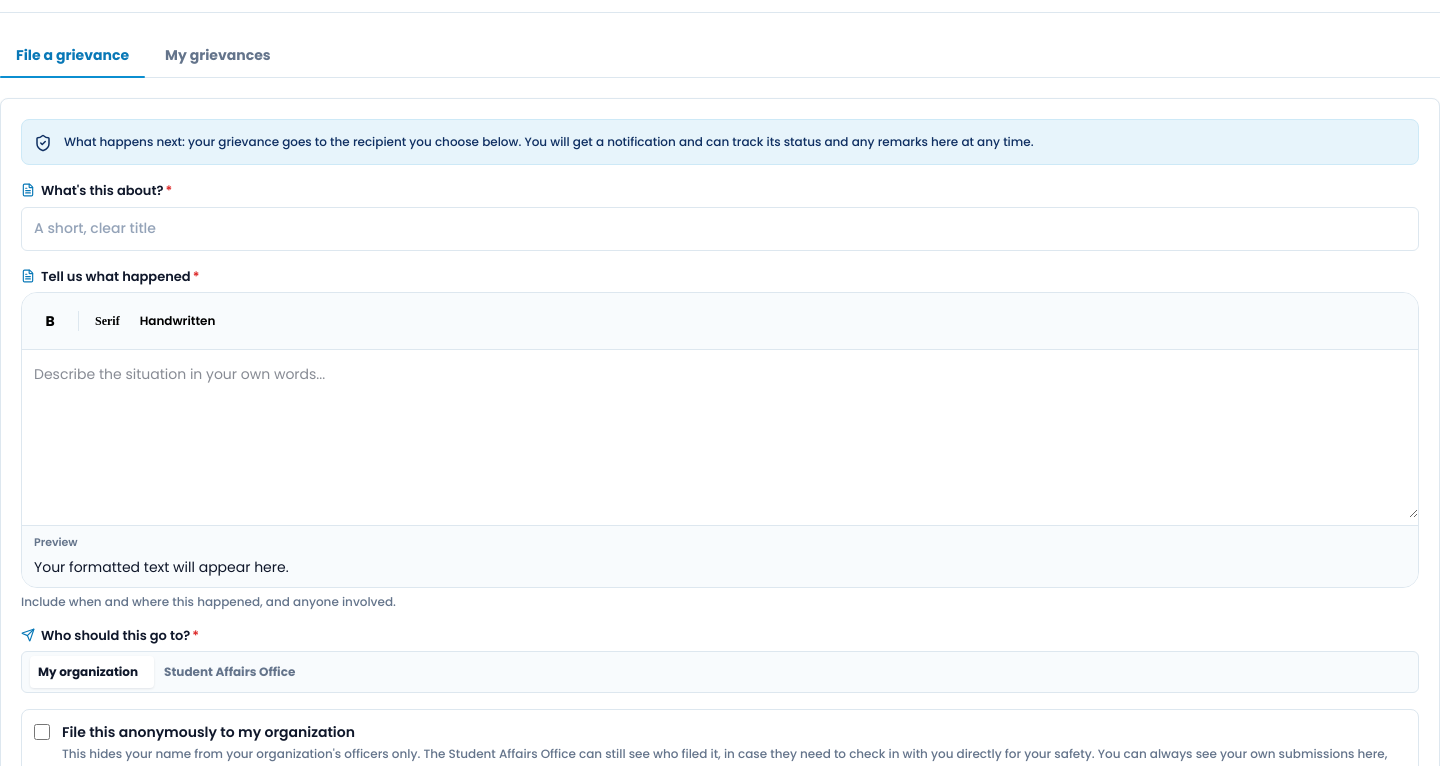
StudentGrievancesPage › files a grievance, switches to the list, and shows its AI classification as advisory
Type "Harassment near the guard post" into the field labelled "What's this about?*" at point(720, 228), box left=21, top=206, right=1419, bottom=250
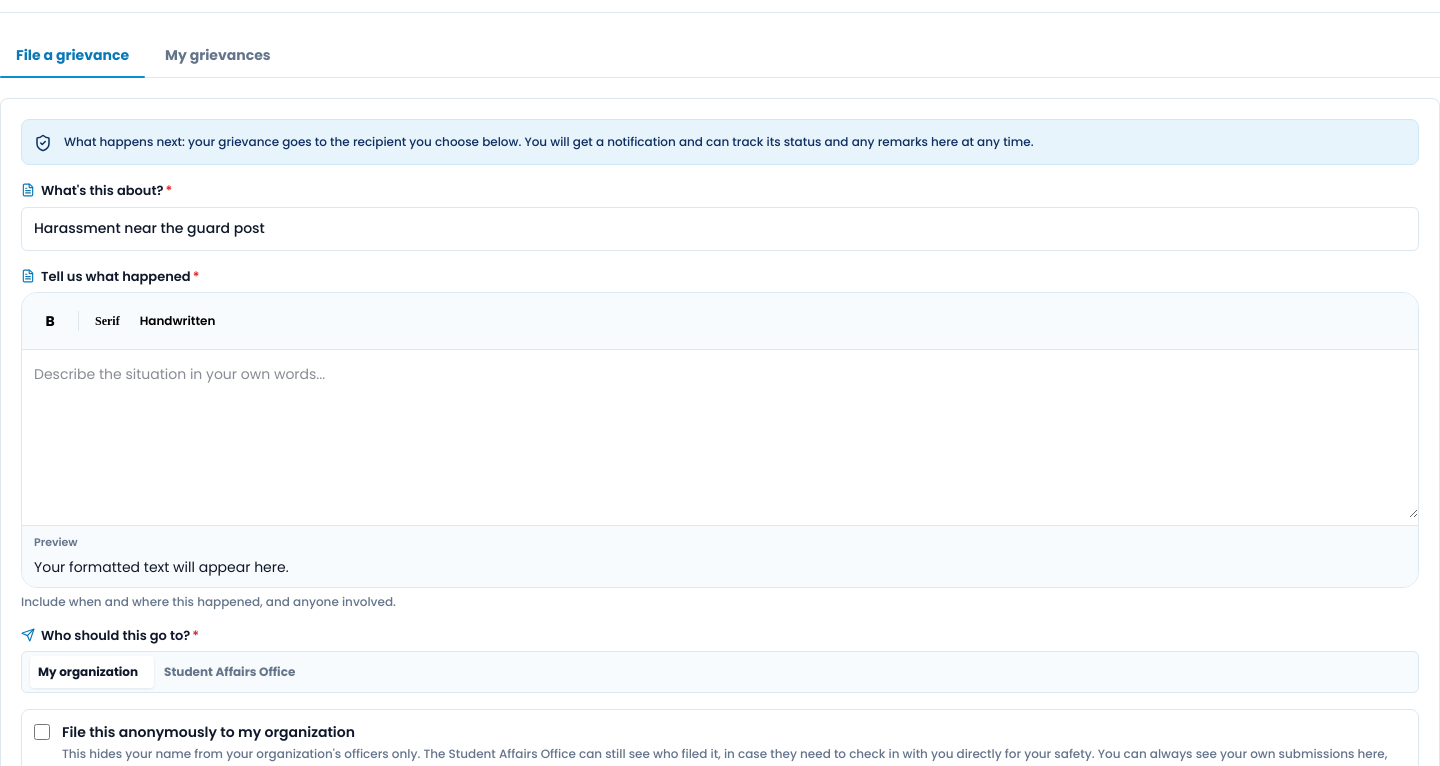
Type "Detailed account." into the text box labelled "Tell us what happened*" at point(720, 434), box left=22, top=350, right=1418, bottom=518
(page scrolled)
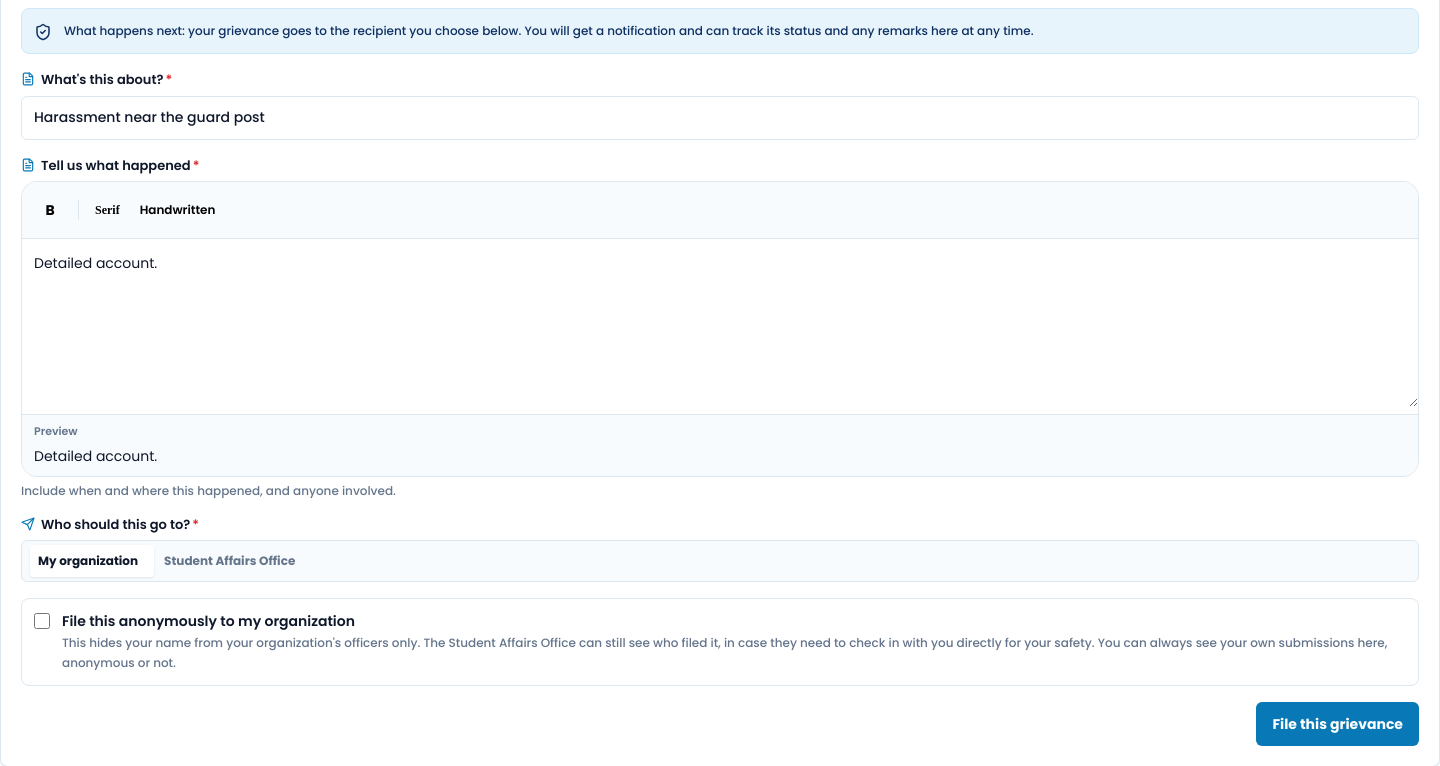
Click the button "File this grievance" at point(1338, 724), box left=1256, top=702, right=1419, bottom=746
(page scrolled)
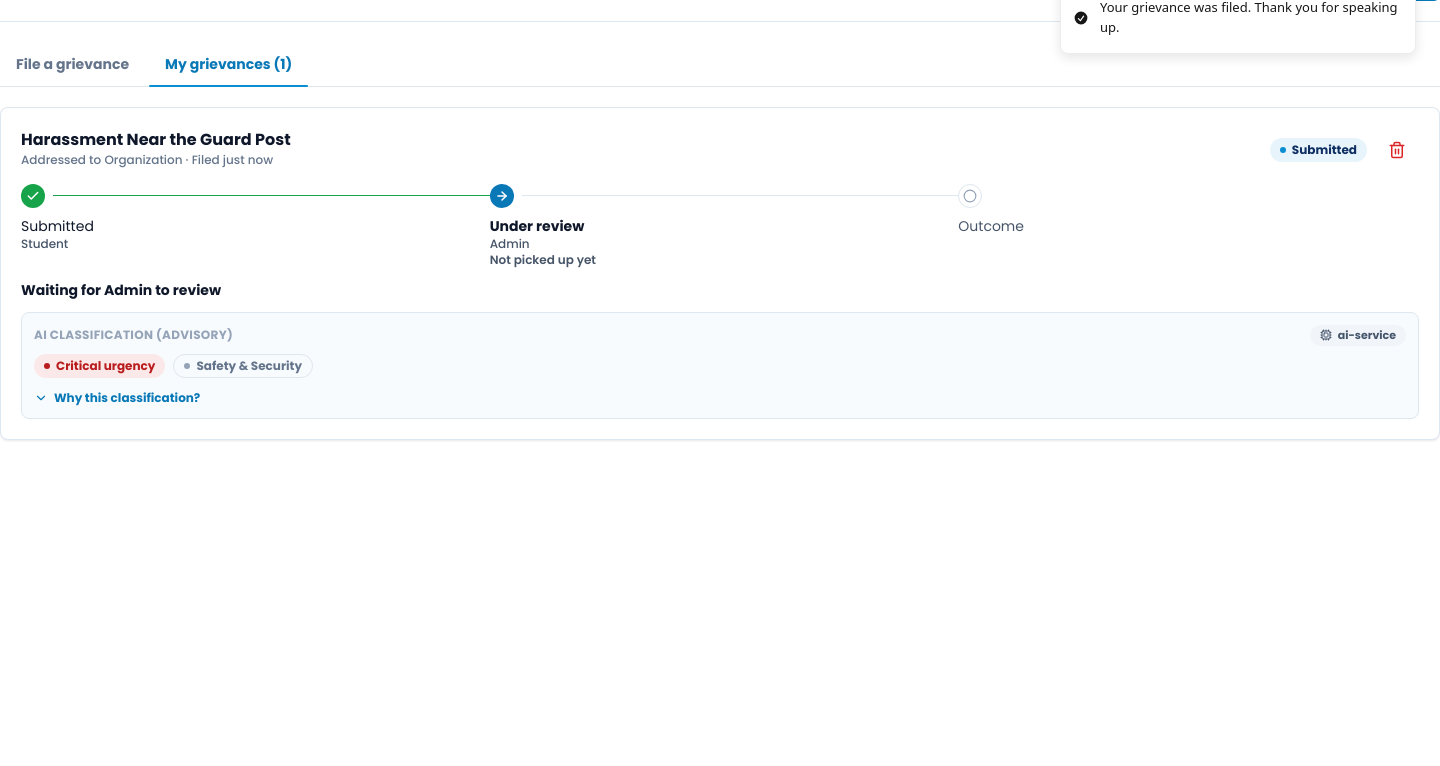
expect the text "Harassment Near the Guard Post" is shown: met, box left=21, top=128, right=291, bottom=152
expect the text "Critical urgency" is shown: met, box left=34, top=354, right=165, bottom=378
expect the text "ai-service" is shown: met, box left=1310, top=325, right=1406, bottom=346
